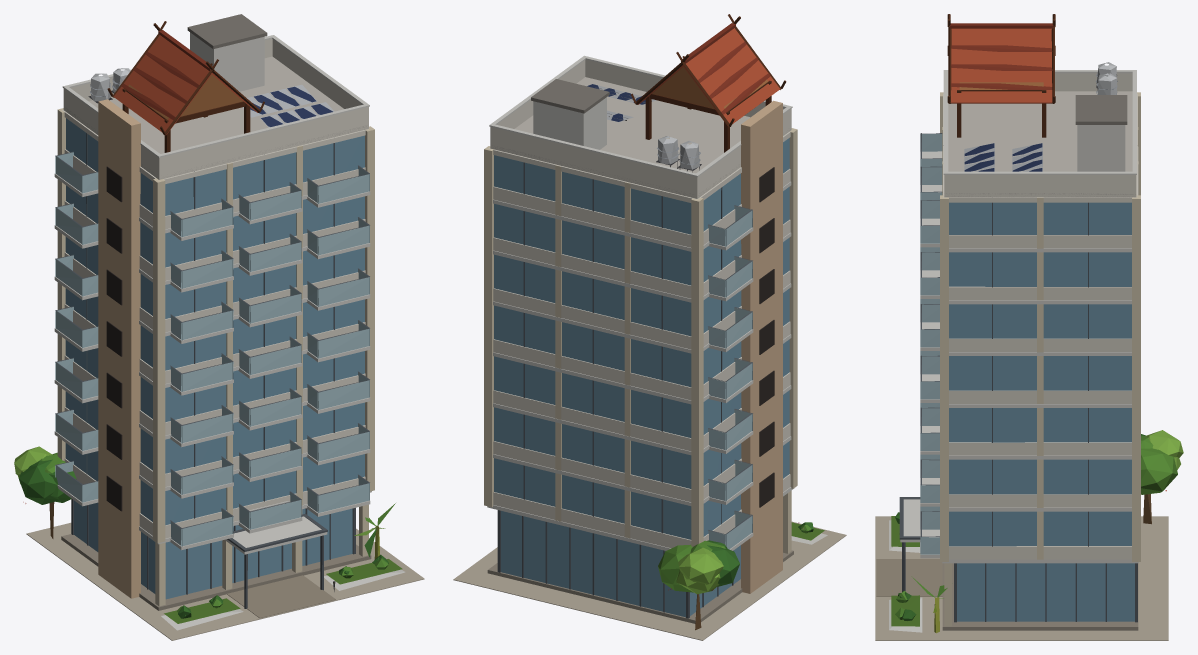
The model's file is home_4.glb.
3 renders of one model, left to right at view 1: azimuth 30°, elevation 25°; view 2: azimuth 150°, elevation 25°; view 3: azimuth 270°, elevation 25°, orthographic.
Visible parts, largest first — view 1: body, windows; view 2: body, windows; view 3: body.
Part boxes in pixels (x1,y1,x2,y2): body: (14,14,424,640); windows: (106,166,334,583); body: (453,14,846,640); windows: (759,167,774,507); body: (875,14,1183,640).
Bounding box in the file's own units: 17.32 × 32.21 × 16.71.
